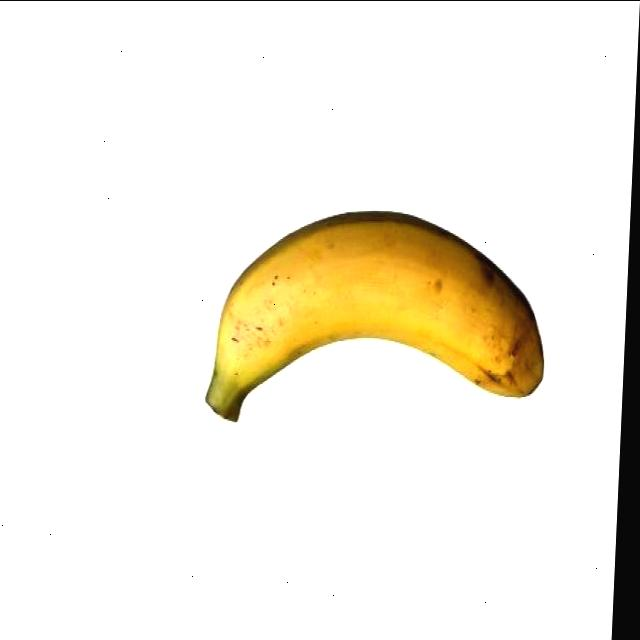banana: (203, 214, 557, 424)
